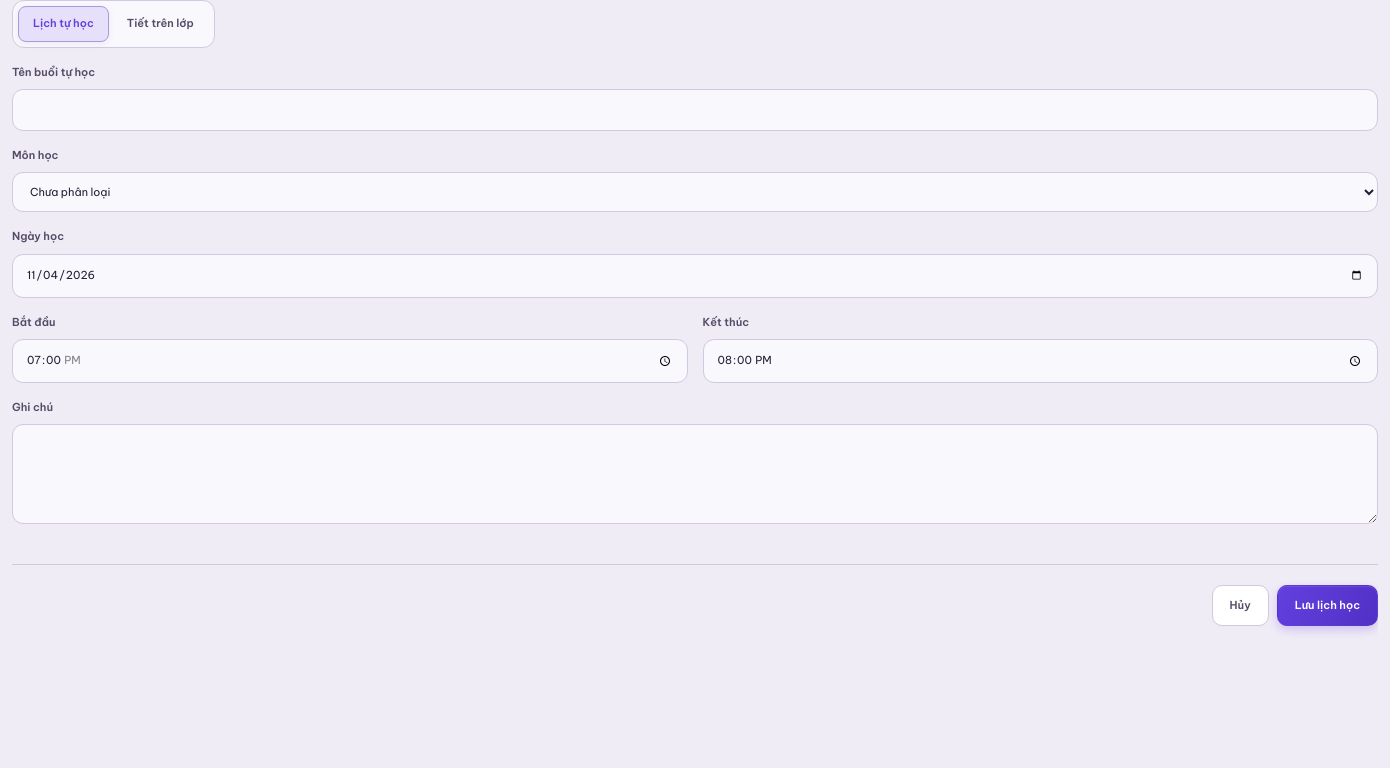
Test: Schedule editor request contracts › rechecks the clock when an open form is submitted later
The image size is (1390, 768).
Type "Ôn bài" into the field labelled "Tên buổi tự học" at [695, 110], box [12,89,1378,131]
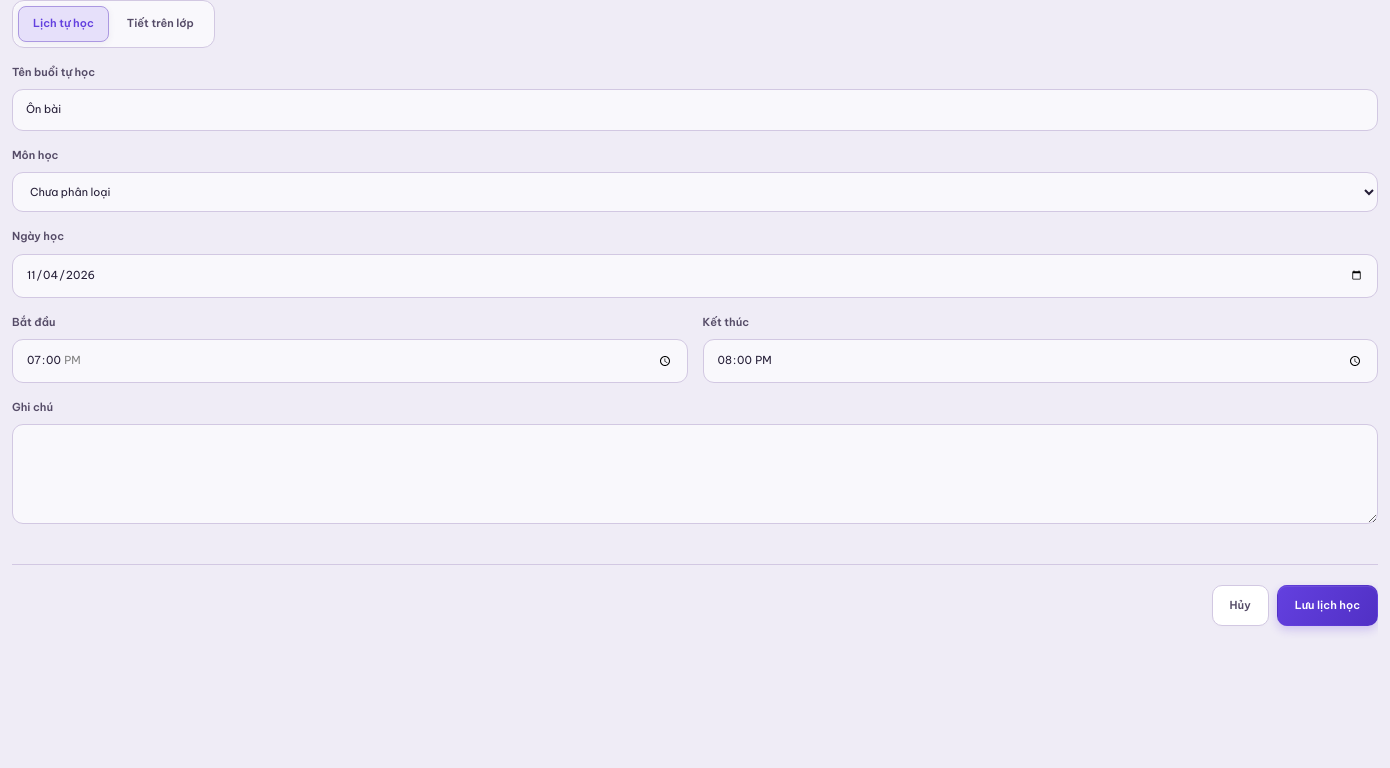
Submit the form named "Lưu lịch học"
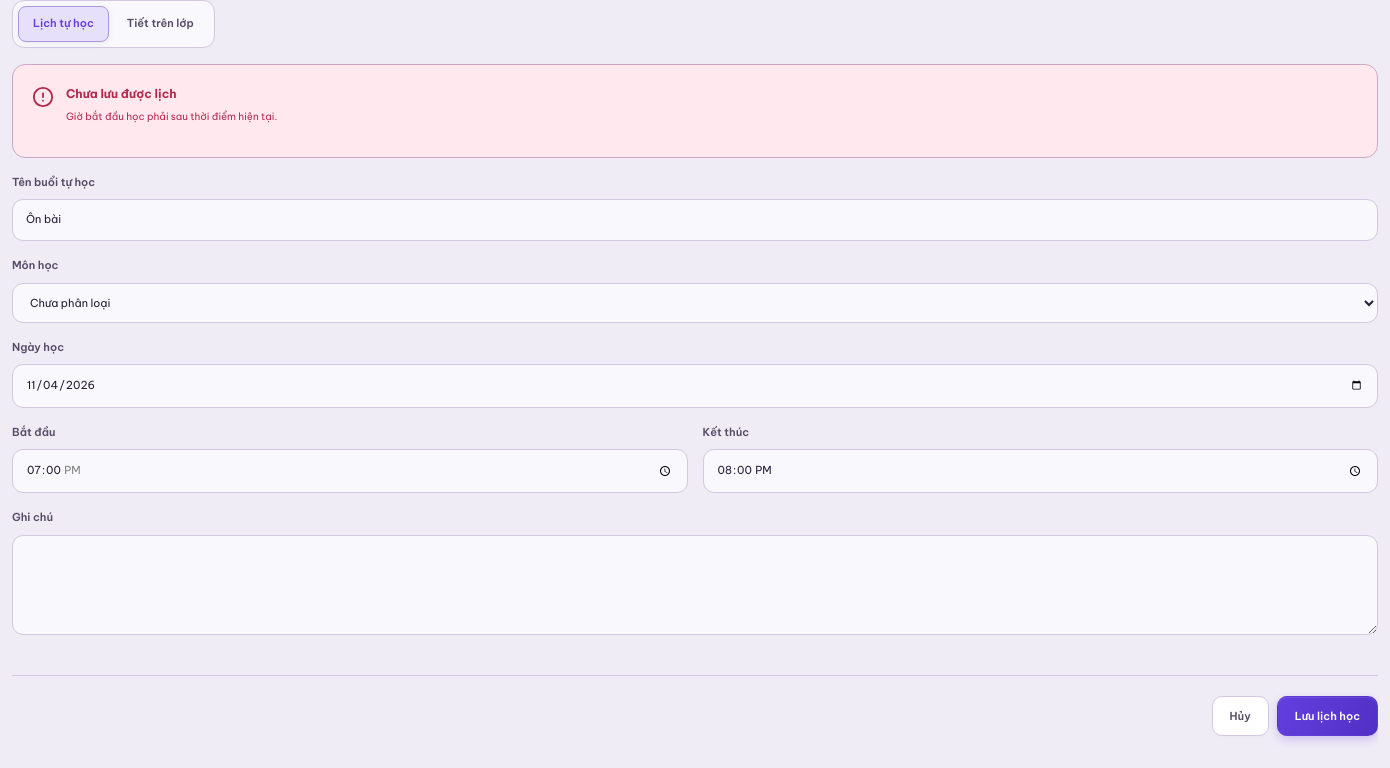
Expected: the message "Chưa lưu được lịch Giờ bắt đầu học phải sau thời điểm hiện tại." is shown, [12,64,1378,158]
